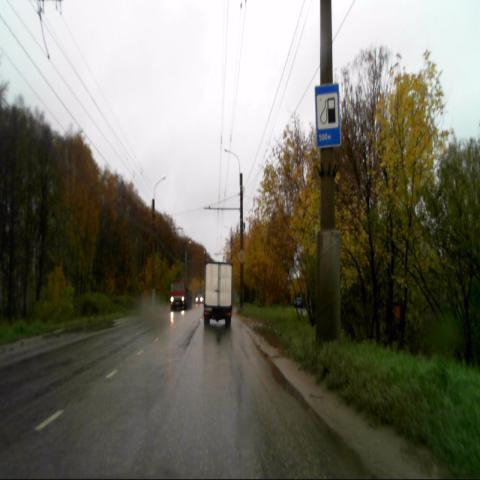7_3: (314, 83, 341, 148)
